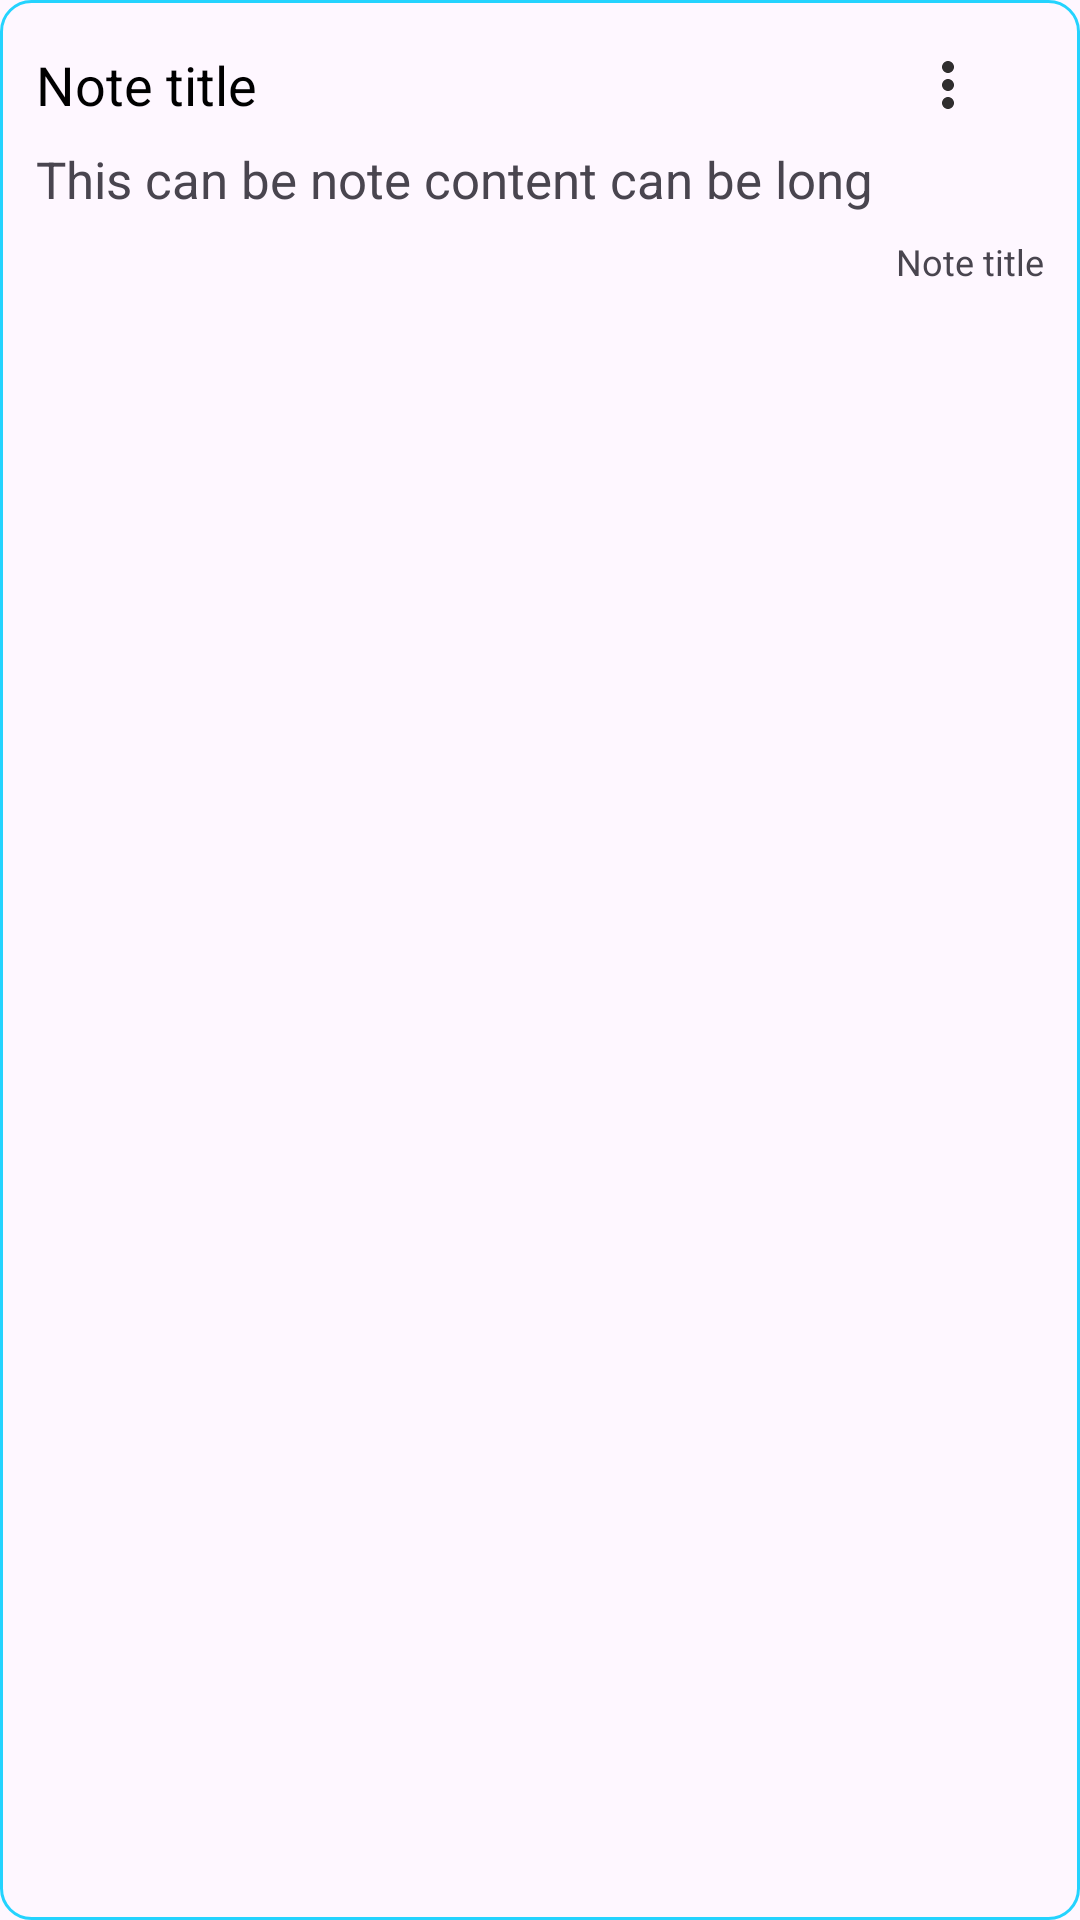

Point at icon controls on the screen. Image size 1080 x 1920, points as point (x, y).
more vert: point (948, 85)
